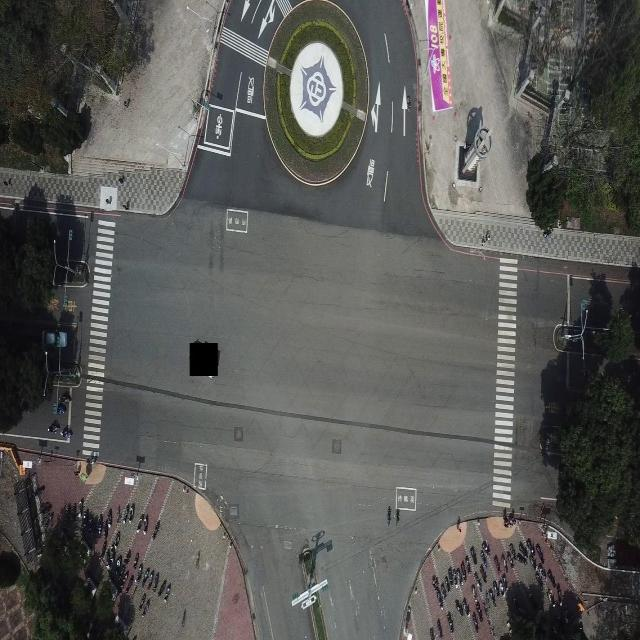bike: (140, 590, 149, 617), (536, 543, 545, 570), (162, 580, 170, 604), (435, 618, 444, 639), (506, 541, 515, 562), (446, 609, 454, 632), (488, 584, 496, 607), (471, 577, 479, 600), (457, 597, 466, 617), (479, 562, 487, 584), (473, 598, 481, 620), (481, 538, 489, 559), (447, 565, 455, 586), (144, 567, 151, 590), (138, 514, 146, 534), (470, 545, 478, 565), (548, 567, 556, 587), (496, 577, 504, 596), (152, 568, 158, 592), (437, 584, 443, 607), (128, 502, 134, 522), (464, 556, 470, 576), (136, 563, 142, 583), (113, 532, 119, 549), (106, 510, 111, 530), (121, 505, 126, 524), (150, 522, 155, 541)
